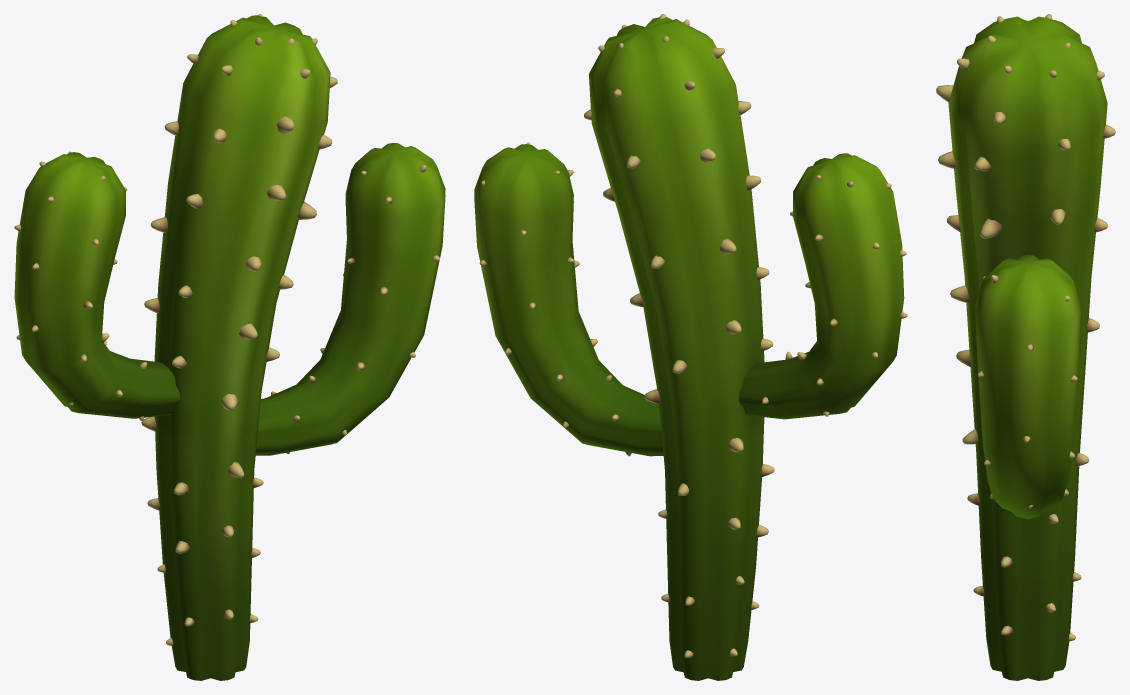
File: cactus_min.glb
3 renders of one model, left to right at view 1: azimuth 30°, elevation 25°; view 2: azimuth 150°, elevation 25°; view 3: azimuth 270°, elevation 25°, orthographic. The views are drawn at different scales.
Visible parts, largest first — view 1: Sphere002; view 2: Sphere002; view 3: Sphere002.
Boxes of the visible parts, bbox=[...] form: Sphere002: bbox=[14, 14, 445, 680]; Sphere002: bbox=[474, 14, 907, 680]; Sphere002: bbox=[936, 14, 1115, 680].
Bounding box in the file's own units: 2271226 × 3253531 × 791960.
1 material, 1 textured.
